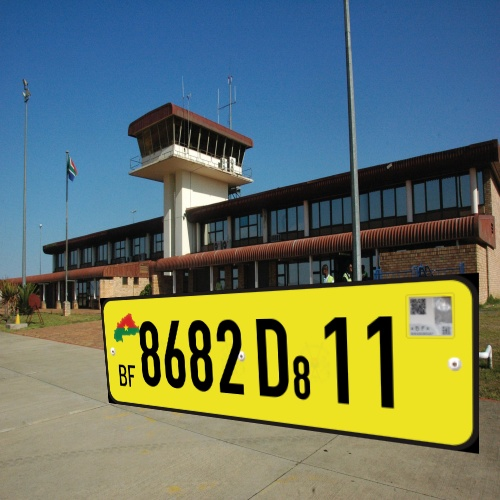plate: (98, 273, 489, 470)
